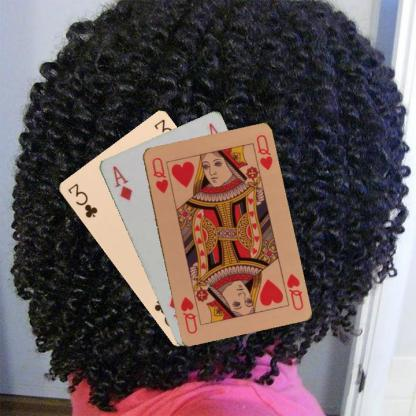3c: (65, 181, 99, 219)
Ad: (109, 163, 134, 202)
Qh: (149, 154, 169, 195), (284, 271, 304, 311)
